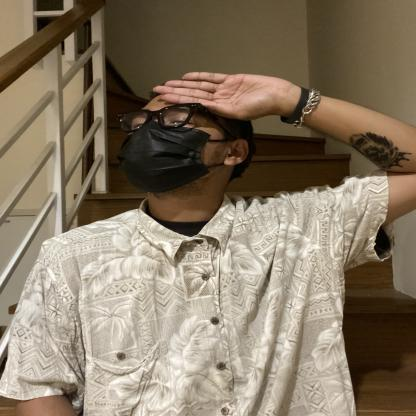Sick: (72, 53, 350, 168)
